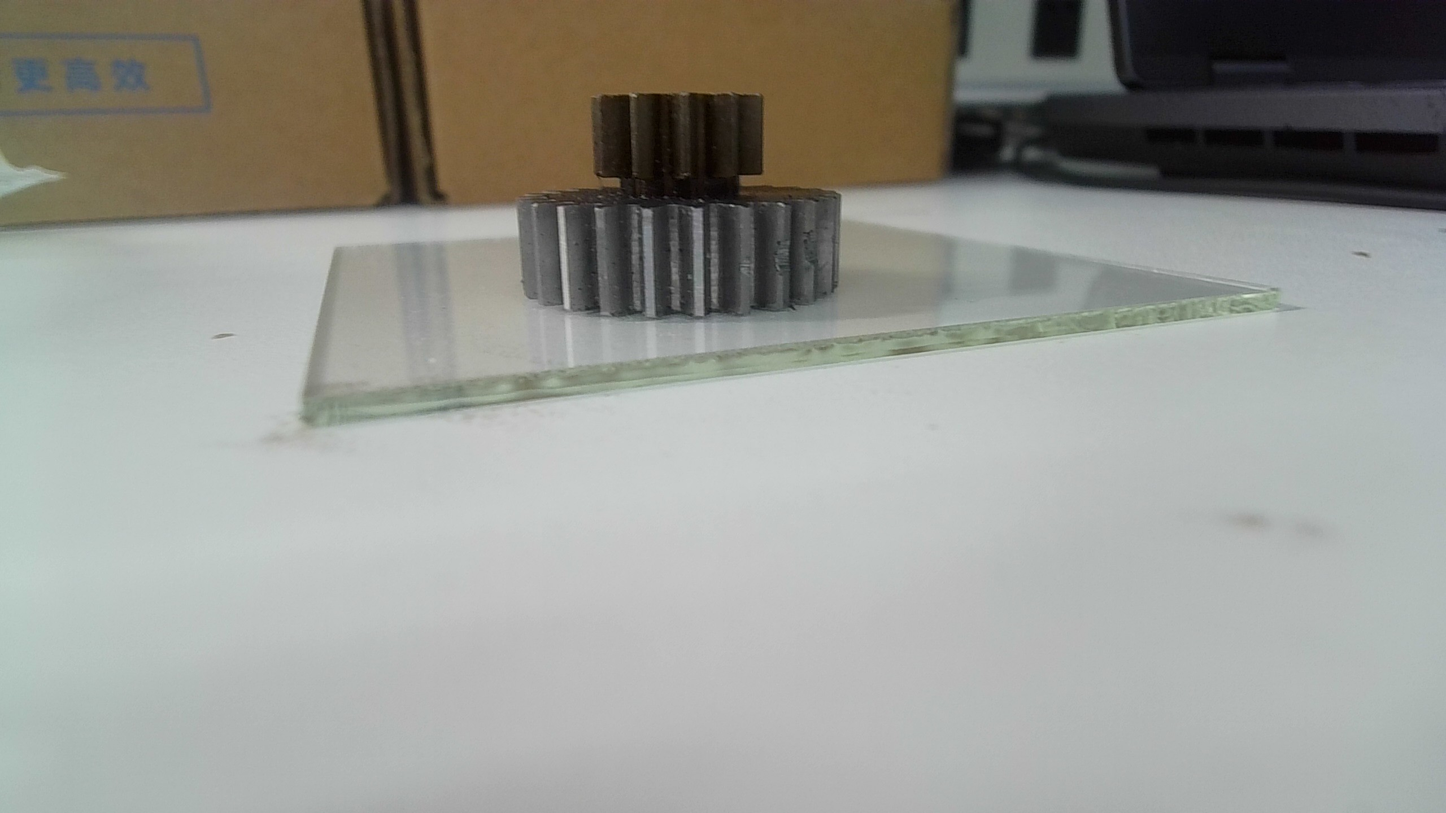gear: (518, 94, 843, 317)
